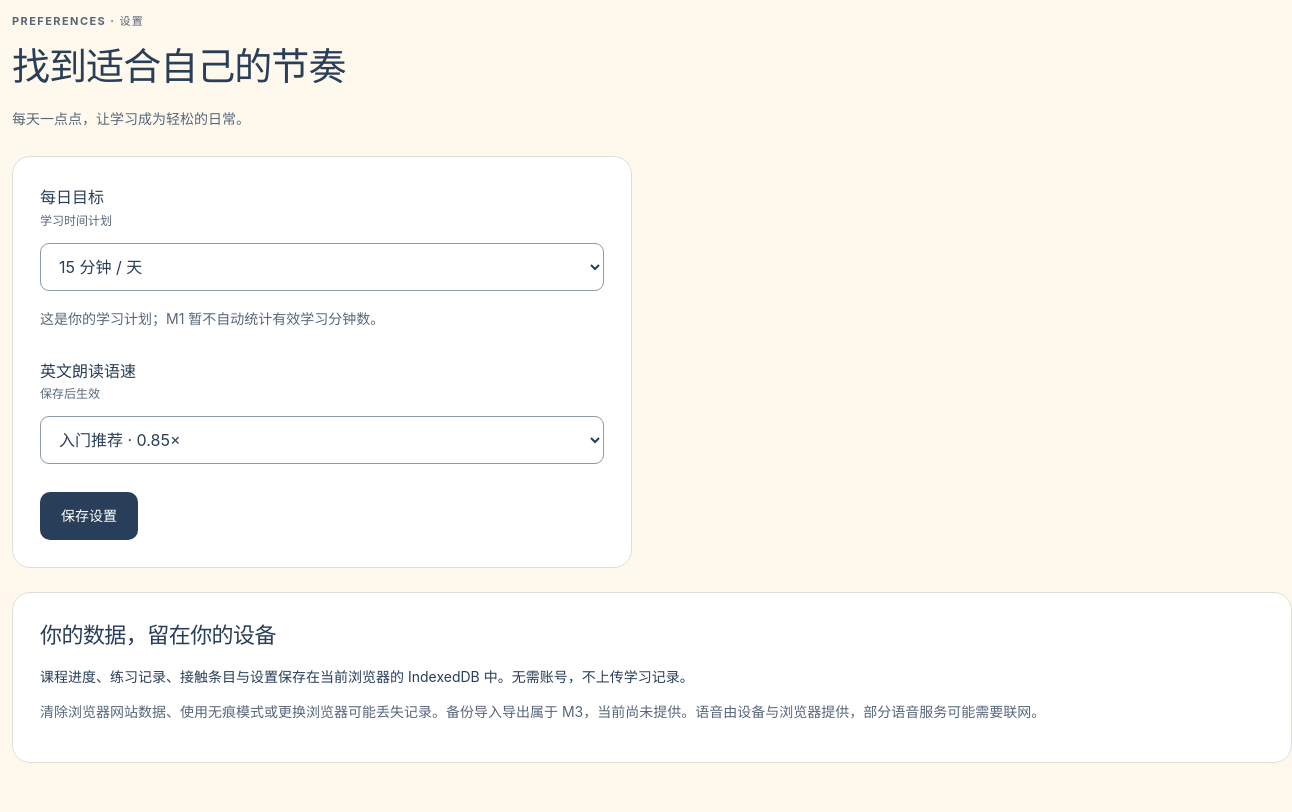
页面与真实学习流程 › 设置成功后可重新读取
Select "20 分钟 / 天" in the dropdown labelled "每日目标 学习时间计划" at (322, 267), box 40,243 -> 604,291
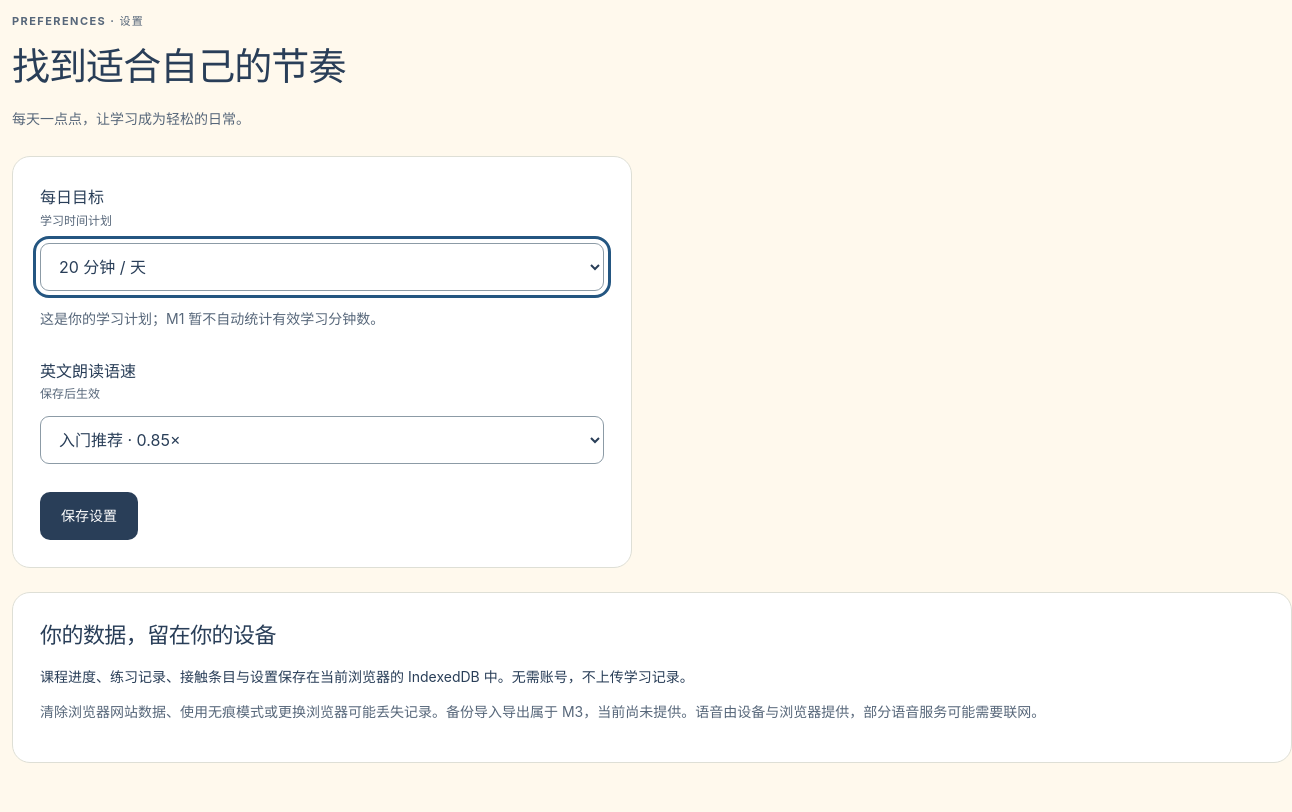
Select "较慢 · 0.65×" in the dropdown labelled "英文朗读语速 保存后生效" at (322, 440), box 40,416 -> 604,464
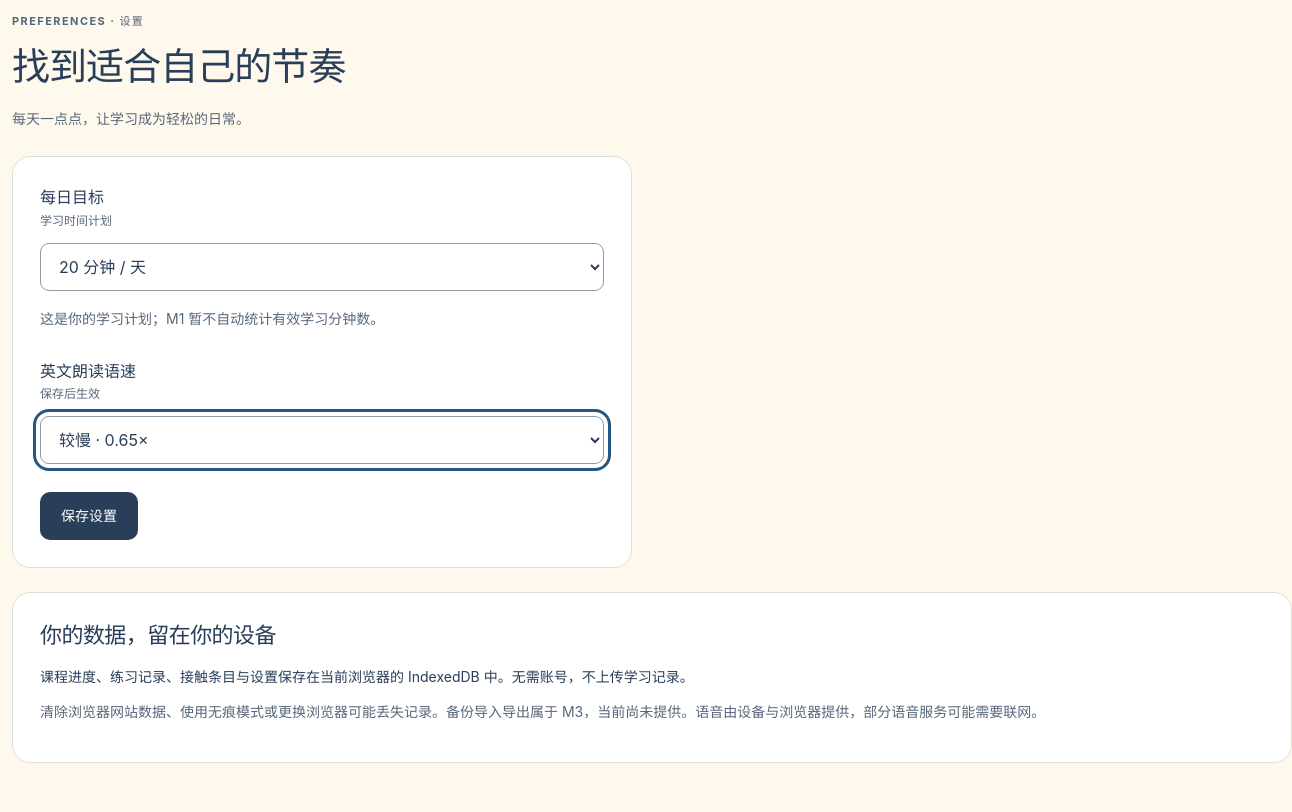
Click the button "保存设置" at (89, 516), box 40,492 -> 138,540
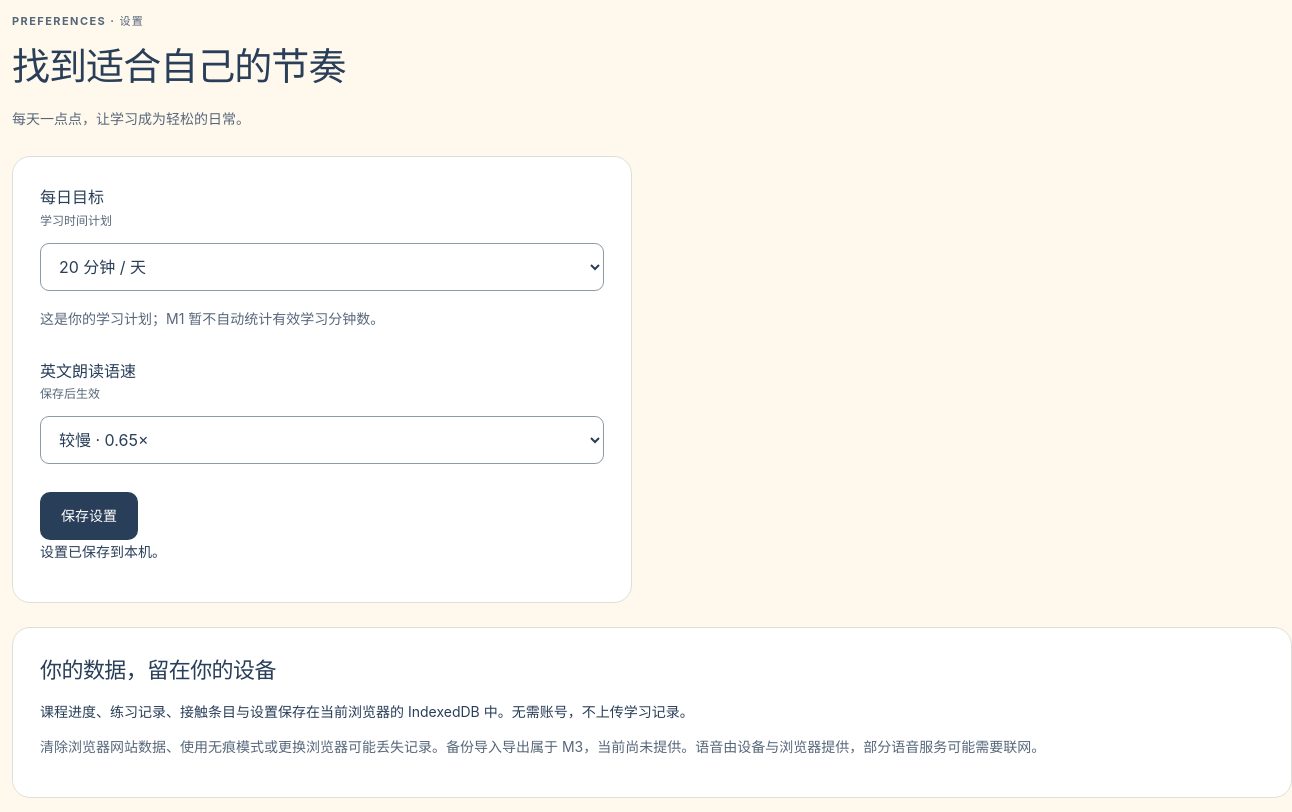
expect the text "设置已保存到本机。" is shown: met, box 40,543 -> 166,560
